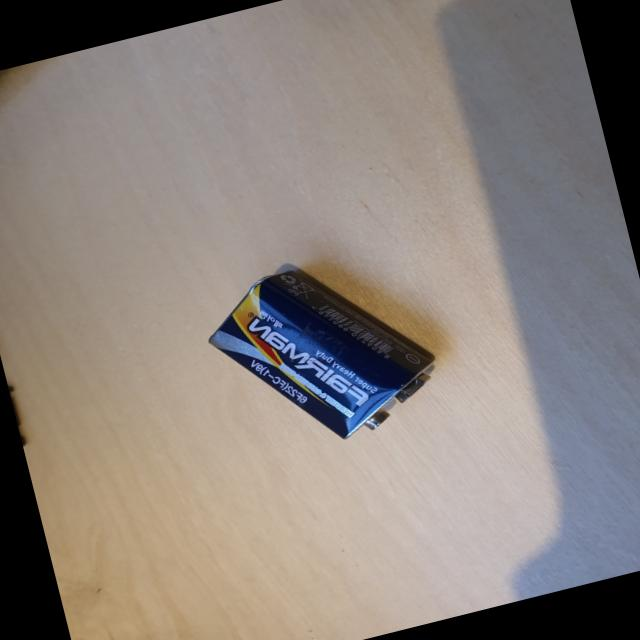battery-etc-etc: (188, 235, 462, 471)
